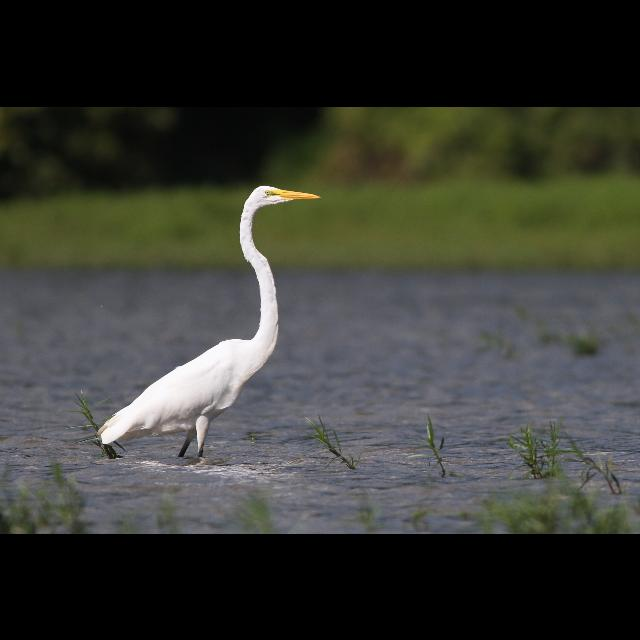egret: (96, 184, 322, 458)
